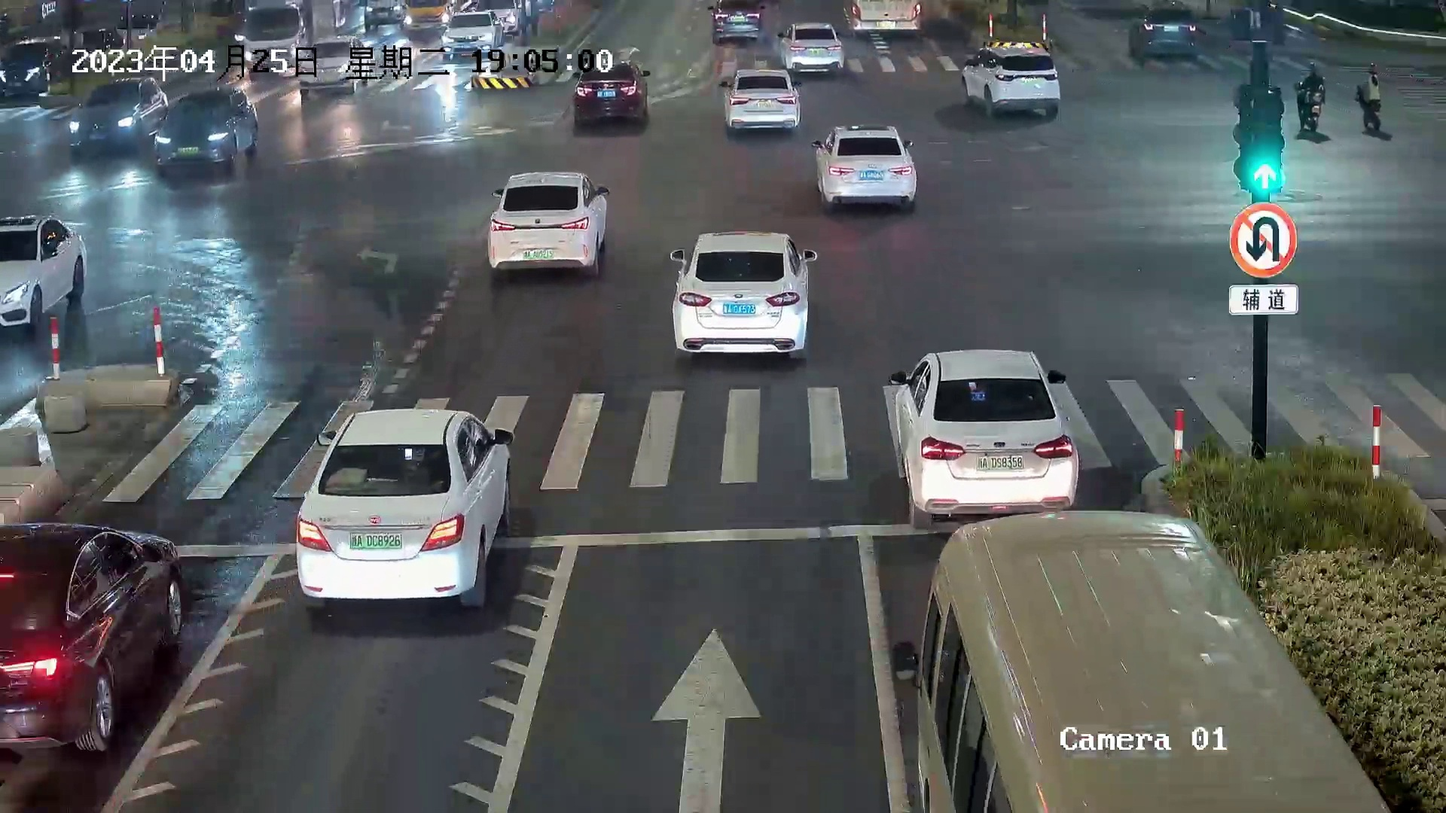person: (1303, 59, 1322, 111), (1365, 61, 1383, 111)
vehicle: (899, 513, 1382, 813), (0, 516, 183, 751), (298, 406, 511, 600), (881, 337, 1073, 510), (669, 221, 809, 349), (487, 167, 615, 277), (0, 212, 87, 330), (815, 121, 923, 207), (150, 89, 258, 169), (63, 74, 164, 153), (953, 35, 1057, 109), (718, 63, 801, 133), (570, 53, 651, 123), (1127, 0, 1206, 61), (2, 29, 69, 93), (297, 38, 364, 92), (440, 11, 512, 59), (775, 19, 843, 69), (848, 0, 923, 39), (711, 1, 761, 41)
